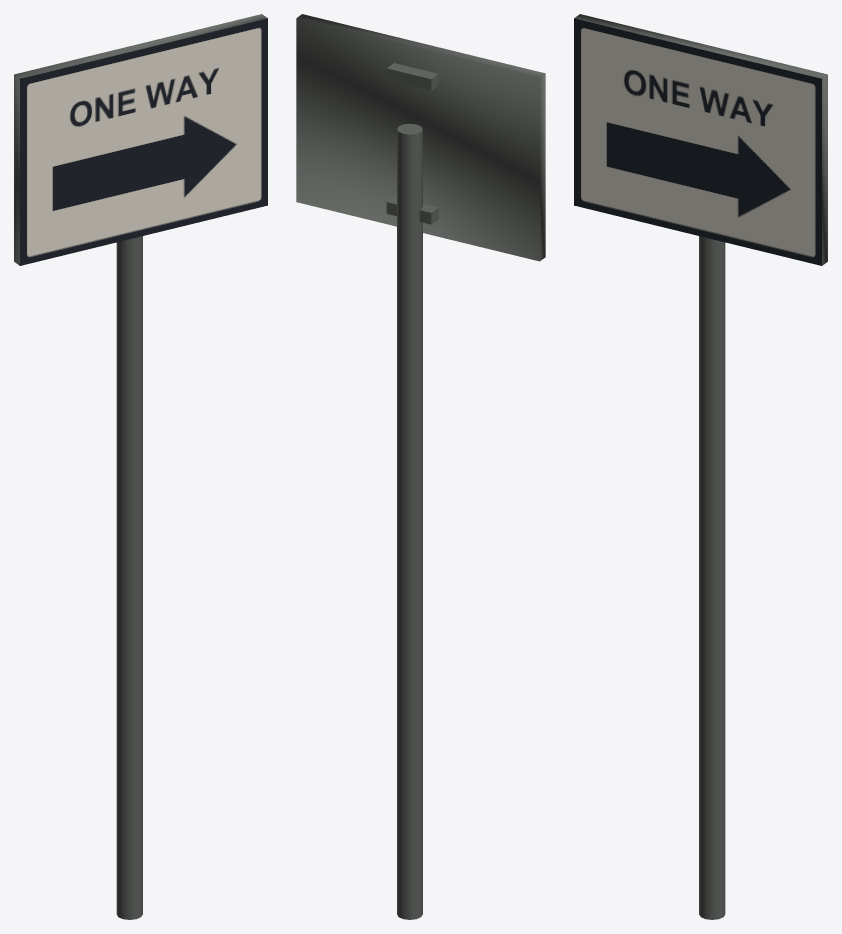
The model's file is MS_SG_06_OneWay.glb.
The picture shows the model from 3 angles, left to right: view 1: azimuth 30°, elevation 25°; view 2: azimuth 150°, elevation 25°; view 3: azimuth 330°, elevation 25°; orthographic projection.
Visible parts, largest first — view 1: SignFace, _MeshInstance3D_37, _MeshInstance3D_39; view 2: _MeshInstance3D_39, _MeshInstance3D_37, _MeshInstance3D_41, _MeshInstance3D_40; view 3: SignFace, _MeshInstance3D_37, _MeshInstance3D_39.
Part boxes in pixels (x1,y1,x2,y2): SignFace: (20, 18, 267, 265); _MeshInstance3D_37: (116, 236, 142, 919); _MeshInstance3D_39: (14, 14, 267, 265); _MeshInstance3D_39: (296, 14, 545, 261); _MeshInstance3D_37: (397, 123, 422, 919); _MeshInstance3D_41: (386, 63, 438, 90); _MeshInstance3D_40: (386, 196, 438, 224); SignFace: (574, 18, 821, 265); _MeshInstance3D_37: (699, 236, 725, 919); _MeshInstance3D_39: (574, 14, 827, 265).
Size of the model in its own units: 0.7625 by 2.57 by 0.111.
Materials: 2 (1 with a texture image).
